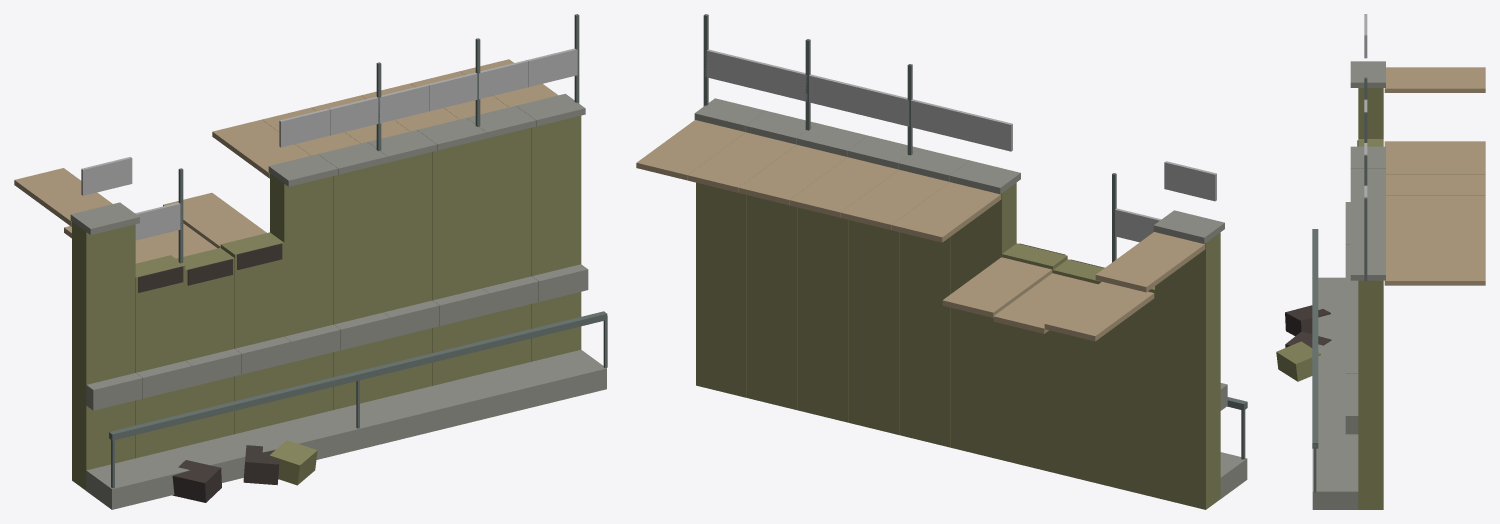
File: SM_MuroRampa_v3_Pasillo_e2_MuyDanado_LOD1.fbx
The picture shows the model from 3 angles, left to right: view 1: azimuth 30°, elevation 25°; view 2: azimuth 150°, elevation 25°; view 3: azimuth 270°, elevation 25°; orthographic projection. The views are drawn at different scales.
Parts seen in each view (by area): view 1: SM_muro_rampa_v14_LOD1; view 2: SM_muro_rampa_v14_LOD1; view 3: SM_muro_rampa_v14_LOD1.
Part boxes in pixels (left/top/right/bottom): SM_muro_rampa_v14_LOD1: left=14, top=14, right=607, bottom=509; SM_muro_rampa_v14_LOD1: left=636, top=14, right=1247, bottom=509; SM_muro_rampa_v14_LOD1: left=1276, top=14, right=1485, bottom=509.
Size of the model in its own units: 10.03 by 6.83 by 4.14.
